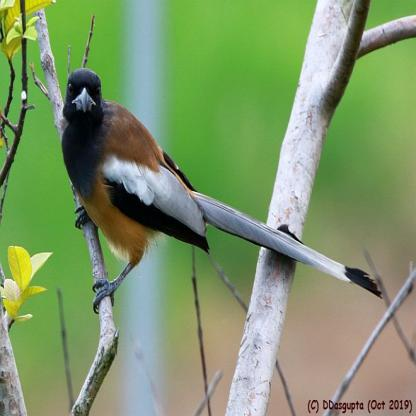Burung: (59, 67, 382, 298)
